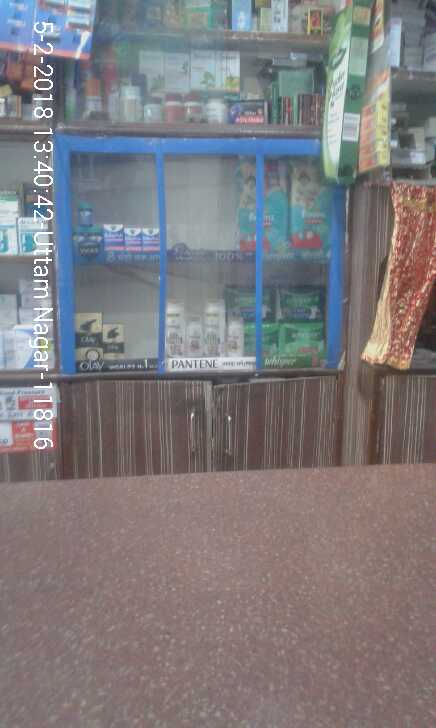vicks: (69, 197, 162, 251)
